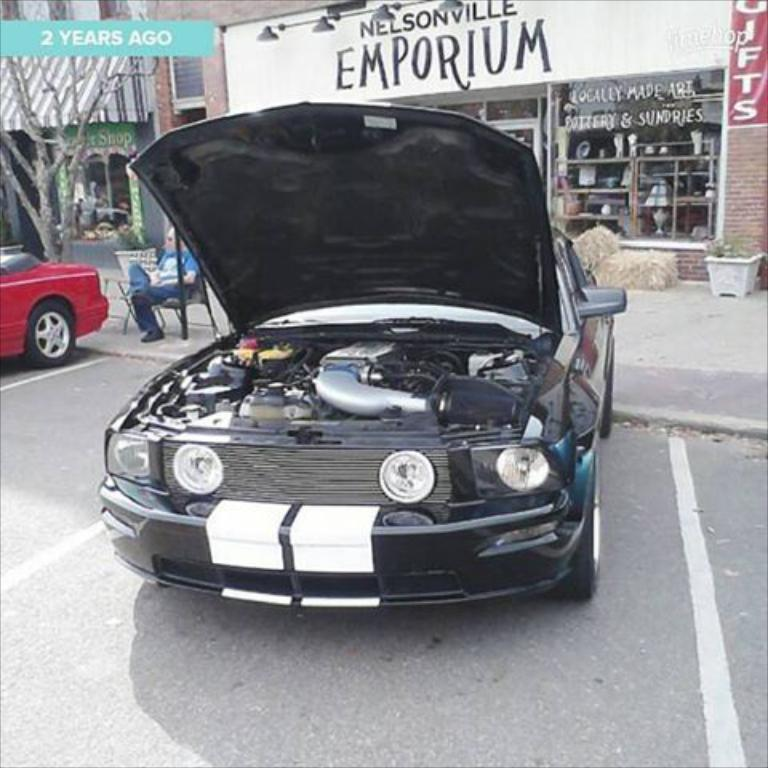Car: (96, 100, 628, 615), (0, 243, 108, 366)
